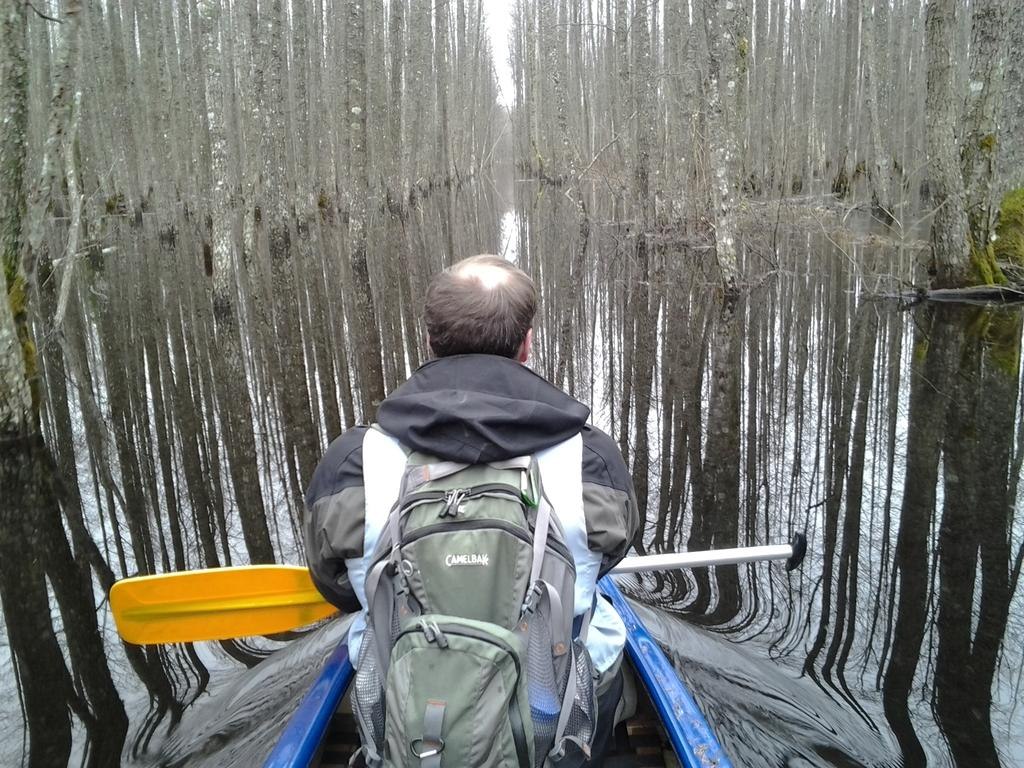Luggage-and-bags: (339, 457, 585, 746)
